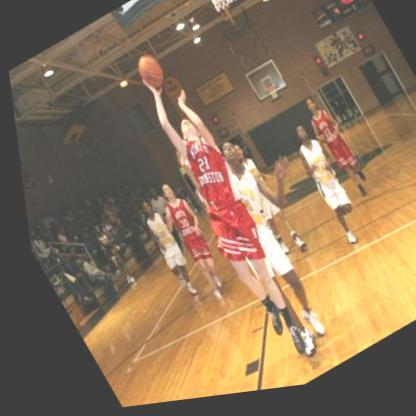basketball: (129, 51, 167, 94)
rim: (259, 87, 273, 99)
